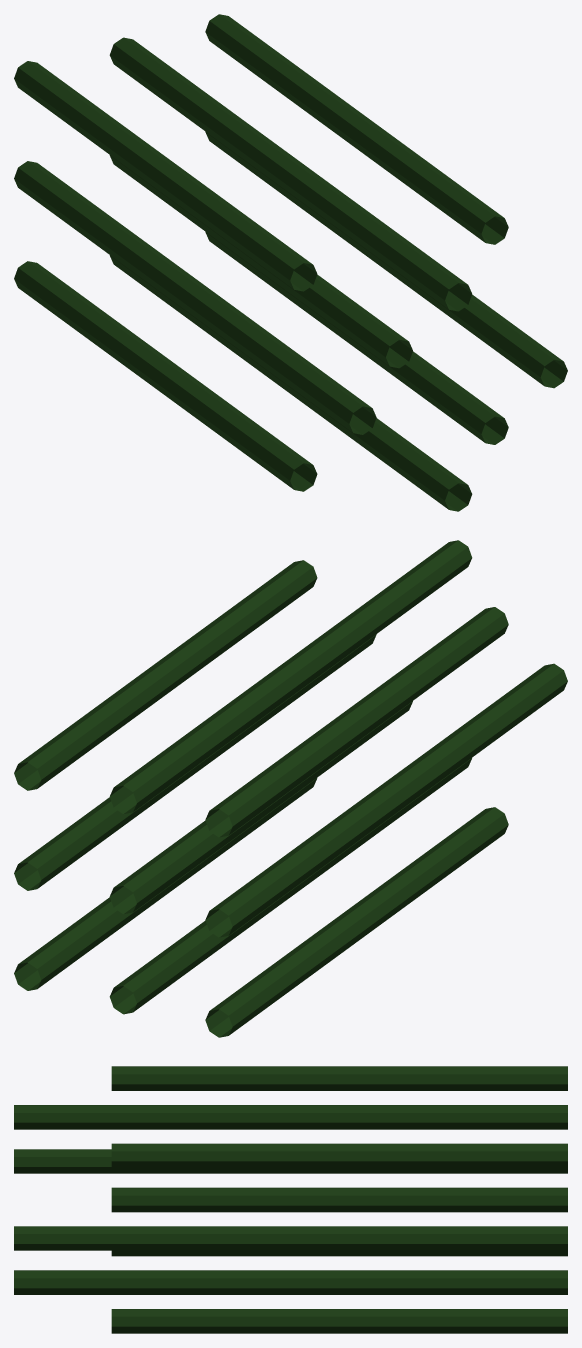
File: SM_CommonReedCluster.obj
The picture shows the model from 3 angles, top to bottom: view 1: azimuth 30°, elevation 25°; view 2: azimuth 150°, elevation 25°; view 3: azimuth 270°, elevation 25°; orthographic projection. The views are drawn at different scales.
Visible parts, largest first — view 1: SM_CommonReedCluster; view 2: SM_CommonReedCluster; view 3: SM_CommonReedCluster.
Boxes of the visible parts, x1,y1,x2,y2 form: SM_CommonReedCluster: [14, 14, 567, 511]; SM_CommonReedCluster: [14, 540, 567, 1037]; SM_CommonReedCluster: [14, 1066, 567, 1333].
Bounding box in the file's own units: 64 × 64 × 170.
